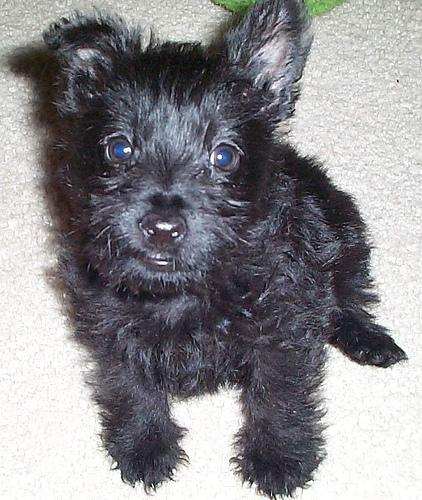dog-scottish_terrier: (41, 0, 308, 283)
